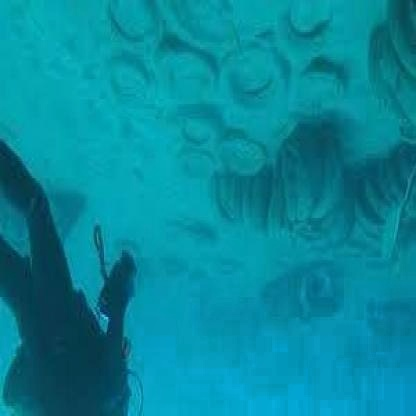tire: (162, 42, 230, 121), (232, 40, 290, 102), (212, 126, 269, 188), (291, 253, 345, 307)
